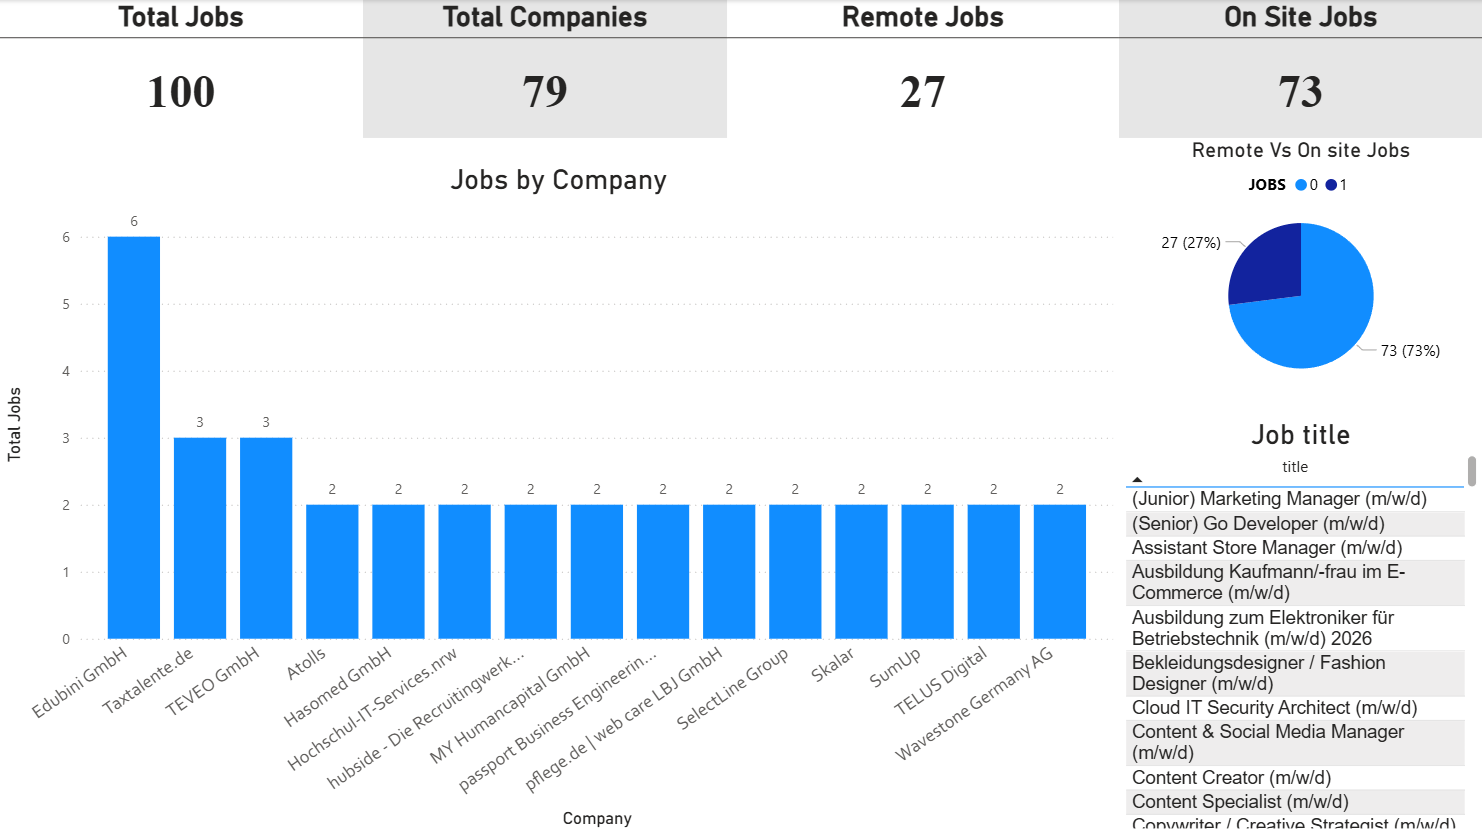

What the dashboard file says about the page in this screenshot:
{"tool":"powerbi","page":{"name":"Jobs by Company","canvas":[1280,720],"ordinal":0},"visuals":[{"type":"card","title":"Total Jobs","fields":{"Values":["CountNonNull(public jobs_silver.job_id)"]},"box":[0,0,314,118.5],"z":0},{"type":"card","title":"Remote Jobs","fields":{"Values":["CountNonNull(public jobs_silver.remote)"]},"box":[628,0,338,118.5],"z":1000},{"type":"card","title":"Total Companies","fields":{"Values":["Count(public jobs_silver.company_name)"]},"box":[314,0,314,118.5],"z":2000},{"type":"pieChart","title":"Remote Vs On site Jobs","fields":{"Y":["CountNonNull(public jobs_silver.job_id)"],"Category":["public jobs_silver.remote"]},"box":[966,118.5,314,224.3],"z":3000},{"type":"card","title":"On Site Jobs","fields":{"Values":["CountNonNull(public jobs_silver.remote)"]},"box":[966,0,314,118.5],"z":4000},{"type":"columnChart","title":"Jobs by Company","fields":{"Category":["public jobs_silver.company_name"],"Y":["CountNonNull(public jobs_silver.job_id)"]},"box":[0,141,966,578.3],"z":5000},{"type":"tableEx","title":"Job title","fields":{"Values":["public jobs_silver.title"]},"box":[966,360.5,314,358.8],"z":6000}]}

Visuals, with their boxes in screenshot pixels (x1, y1, x2, y2), scaled from the page's 1280x720 canvas onto the 1482x834 screenshot:
"Total Jobs" card: region(0, 0, 364, 137)
"Remote Jobs" card: region(727, 0, 1118, 137)
"Total Companies" card: region(364, 0, 727, 137)
"Remote Vs On site Jobs" pieChart: region(1118, 137, 1481, 397)
"On Site Jobs" card: region(1118, 0, 1481, 137)
"Jobs by Company" columnChart: region(0, 163, 1118, 833)
"Job title" tableEx: region(1118, 418, 1481, 833)
